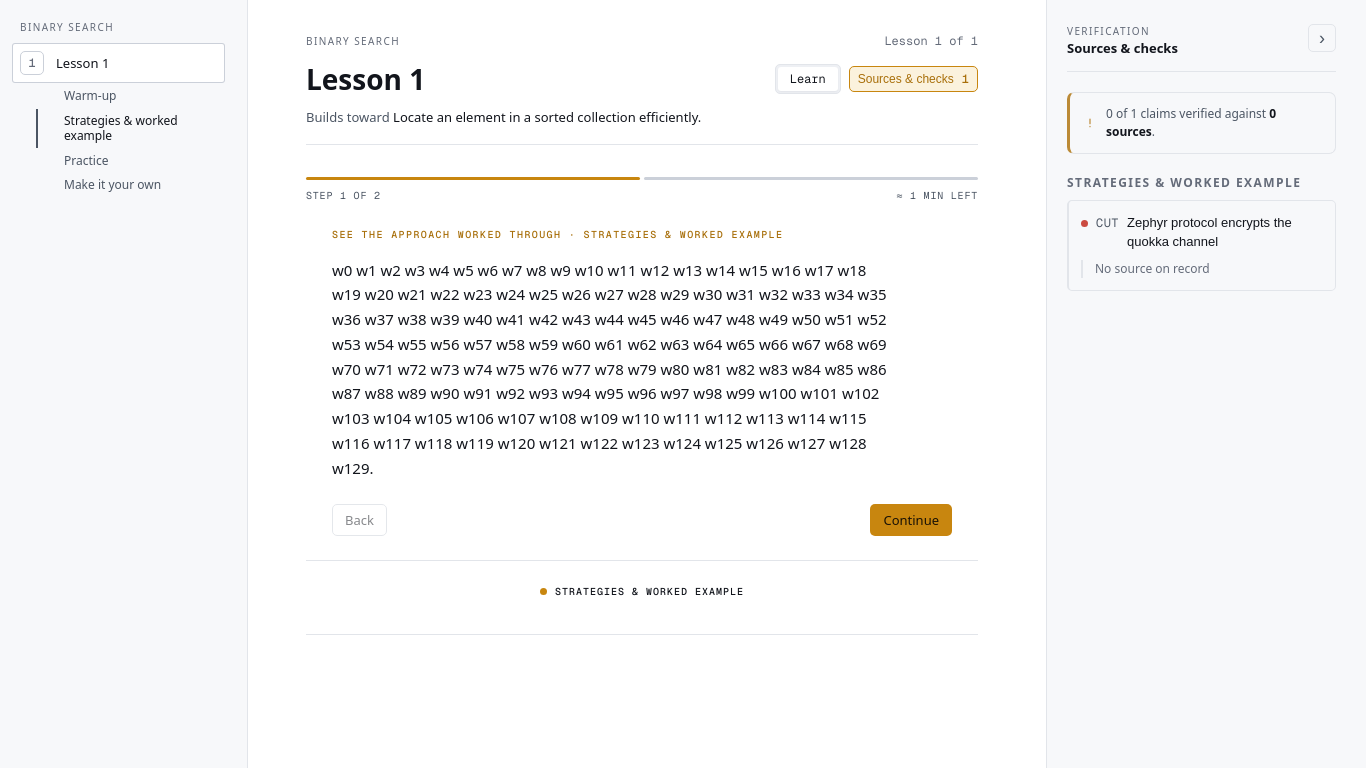
Test: CourseReader — claim → lesson backlink › jumps to the exact chunk that holds the claim's sentence, not just the phase
Expected: the text "Step 1 of 2" is shown, [306,188,381,202]
# Act — locate the claim whose sentence lives in chunk 2.
Click the button "CUT Zephyr protocol encrypts the quokka channel": (1202, 232) [1081,212,1323,252]
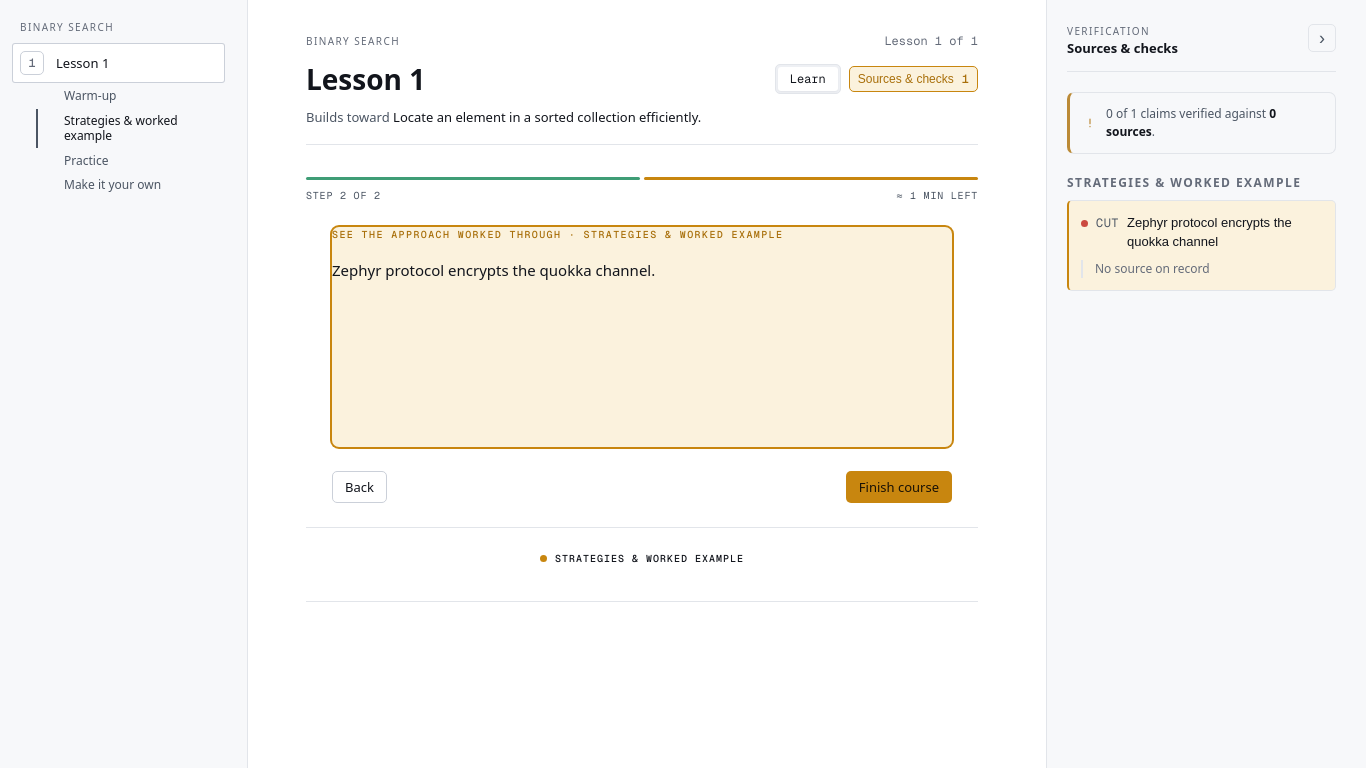
Now the text "Step 2 of 2" is shown, box [306,188,381,202]
